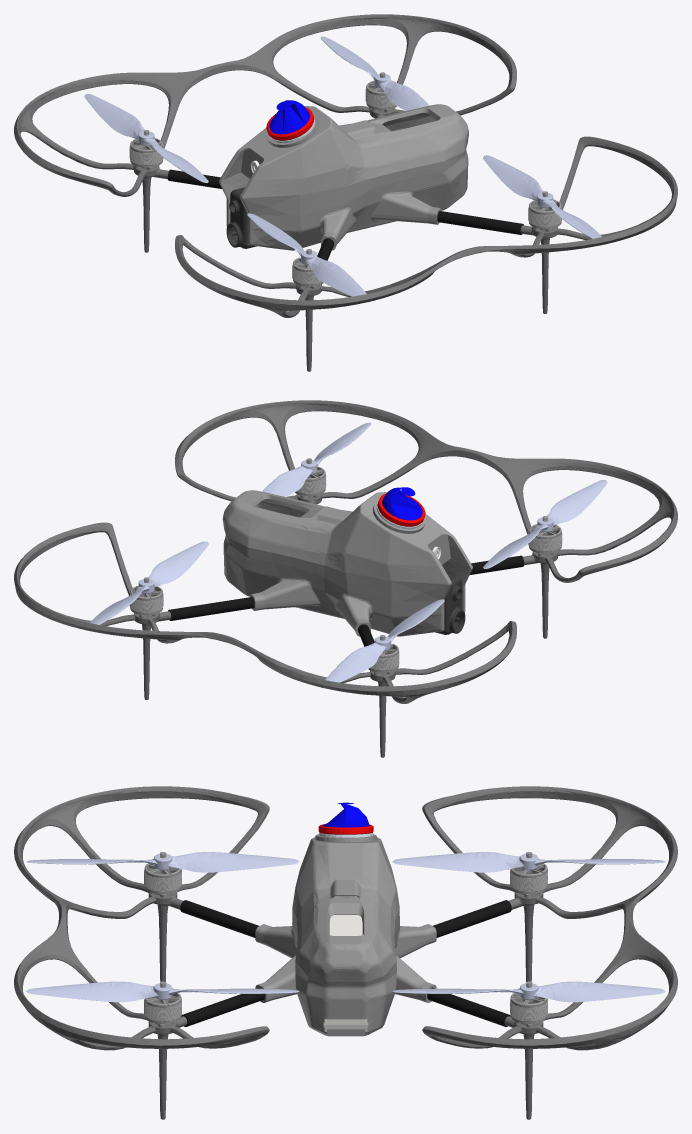
The model's file is drone.glb.
3 renders of one model, top to bottom at view 1: azimuth 30°, elevation 25°; view 2: azimuth 150°, elevation 25°; view 3: azimuth 270°, elevation 25°, orthographic. The views are drawn at different scales.
Parts seen in each view (by area): view 1: body32, body33, body28, prop2, prop1, prop3, body24, prop0, body30, body2; view 2: body32, body33, body28, prop3, prop0, prop2, body24, prop1, body2, body30; view 3: body33, body32, body24, body28, prop1, prop0, prop2, prop3, body0, body30.
Part boxes in pixels (x1,y1,x2,y2): body32: (219,104,468,250); body33: (14,14,677,371); body28: (129,72,561,289); prop2: (84,94,208,182); prop1: (483,155,605,244); prop3: (247,213,369,302); body24: (167,169,523,260); prop0: (320,36,429,110); body30: (269,100,309,134); body2: (226,187,256,248); body32: (222,490,472,636); body33: (14,400,677,757); body28: (129,458,562,675); prop3: (483,480,607,569); prop0: (85,541,208,630); prop2: (321,599,444,688); body24: (168,555,524,646); prop1: (262,422,371,496); body2: (435,573,465,634); body30: (382,487,422,520); body33: (14,786,677,1119); body32: (255,834,436,1036); body24: (180,900,511,1026); body28: (144,852,547,1027); prop1: (26,981,299,1002); prop0: (392,981,665,1002); prop2: (392,852,665,872); prop3: (26,852,299,872); body0: (323,915,368,1024); body30: (322,802,369,827).
Bounding box in the file's own units: 0.5636 × 0.2246 × 0.617.
